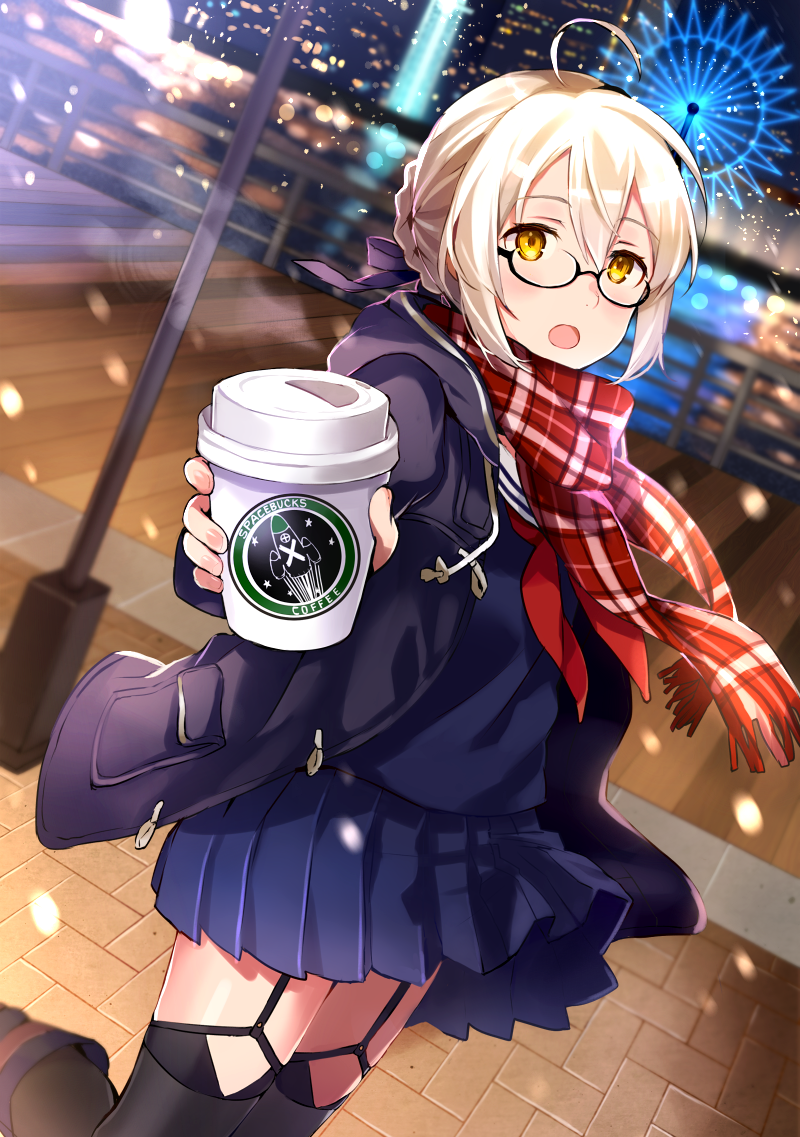纸片人正脸: (404, 46, 718, 374), (185, 362, 395, 641)
